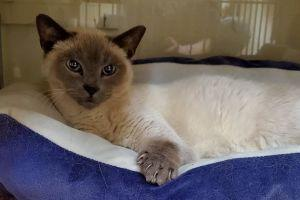siamese: (35, 2, 147, 121)
